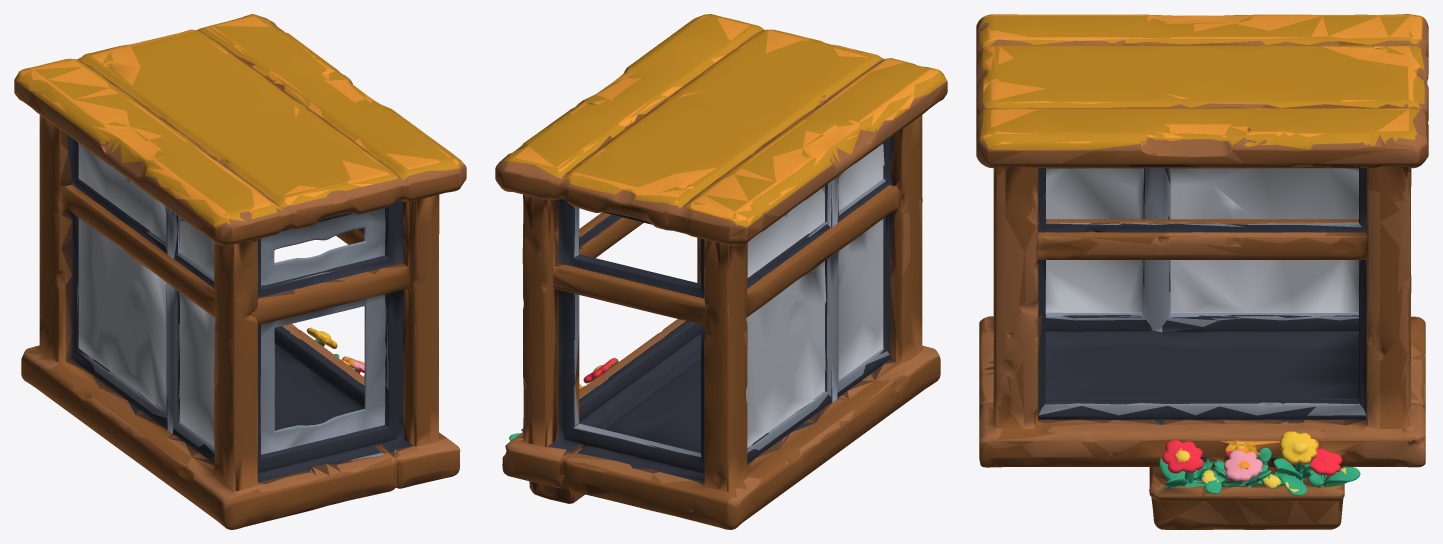
File: SM_kiosk_wood.fbx
3 renders of one model, left to right at view 1: azimuth 30°, elevation 25°; view 2: azimuth 150°, elevation 25°; view 3: azimuth 270°, elevation 25°, orthographic. The views are drawn at different scales.
Visible parts, largest first — view 1: SM_kiosk_wood; view 2: SM_kiosk_wood; view 3: SM_kiosk_wood.
Part boxes in pixels (x1=…): SM_kiosk_wood: x1=14, y1=14, x2=466, y2=529; SM_kiosk_wood: x1=495, y1=14, x2=947, y2=529; SM_kiosk_wood: x1=976, y1=14, x2=1428, y2=529.
Bounding box in the file's own units: 120 × 150 × 157.
1 material, 1 textured.
